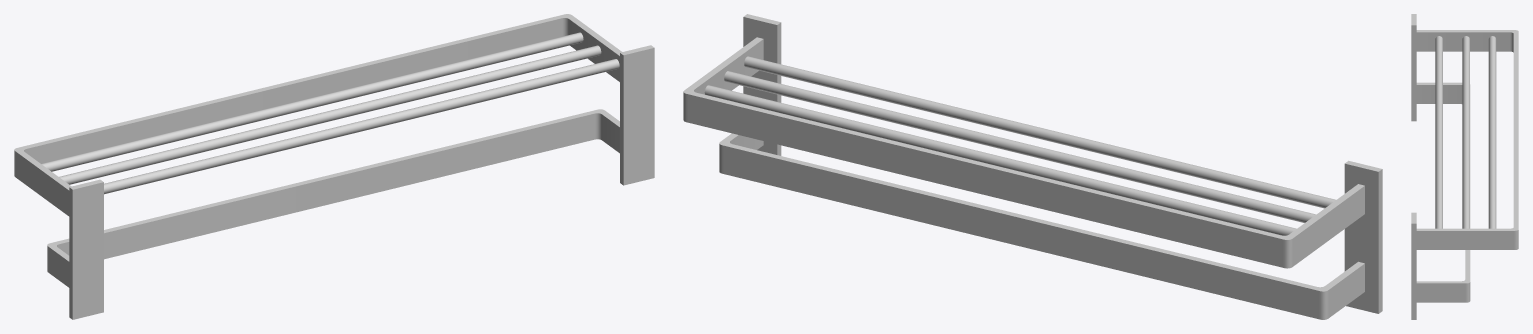
The model's file is TowelHanger05.fbx.
3 views of the same model, side by side, from view 1: azimuth 30°, elevation 25°; view 2: azimuth 150°, elevation 25°; view 3: azimuth 270°, elevation 25° (orthographic). The views are drawn at different scales.
Visible parts, largest first — view 1: TowelHanger05; view 2: TowelHanger05; view 3: TowelHanger05.
Part boxes in pixels (<box>): TowelHanger05: <box>14,14,654,319</box>; TowelHanger05: <box>683,14,1382,319</box>; TowelHanger05: <box>1411,14,1518,319</box>.
Bounding box in the file's own units: 84.15 × 18 × 18.24.
